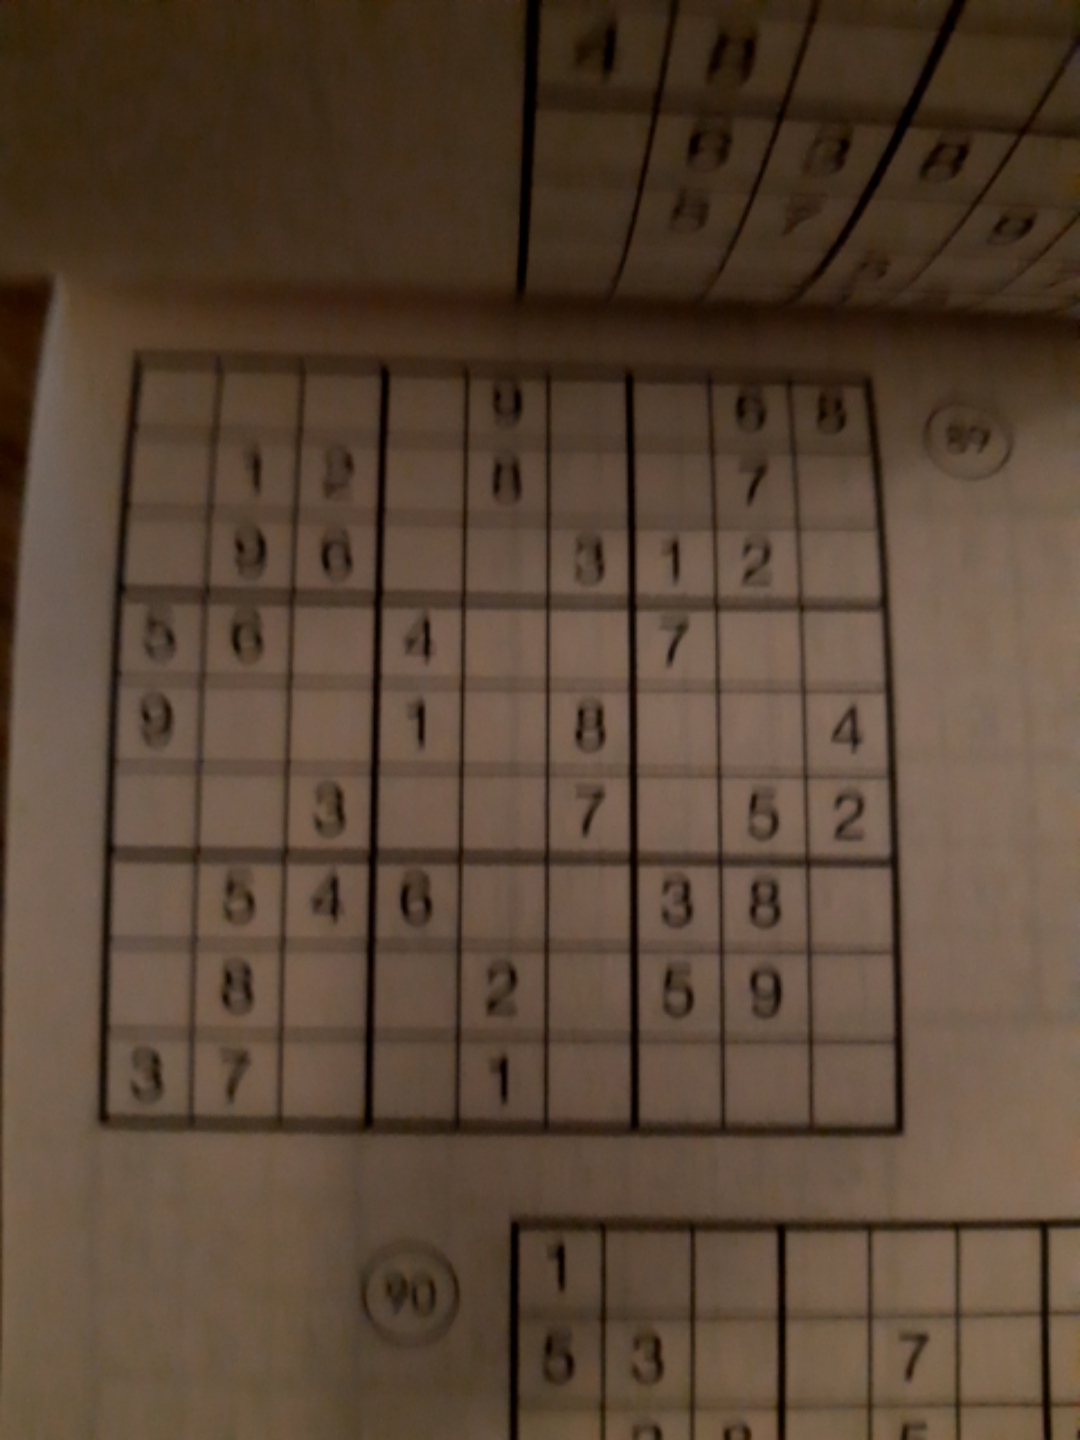sudoku: (93, 346, 905, 1139)
